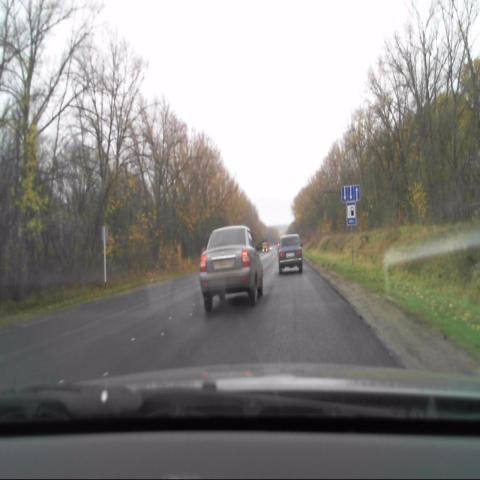5_15_7: (341, 184, 359, 202)
7_3: (346, 203, 356, 225)
